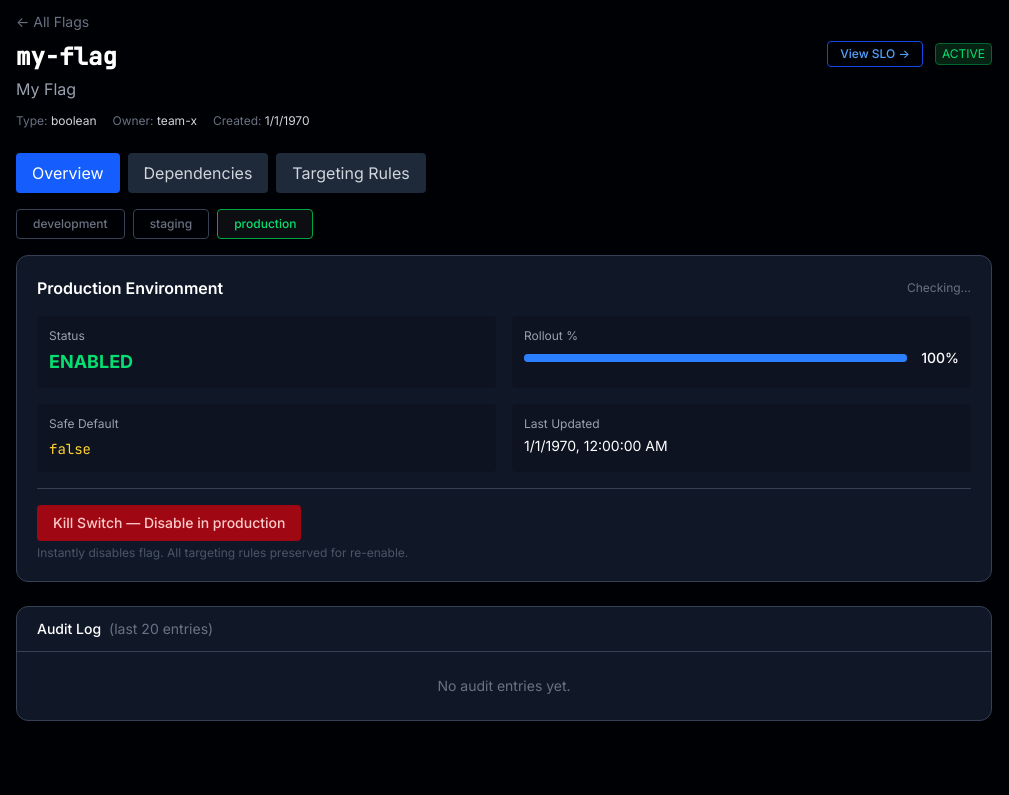
Test: FlagDetail kill switch blast-radius pre-check › cancelling the badge does not kill and restores the button
The image size is (1009, 795).
Click the button "Kill Switch — Disable in production" at (169, 523), box [37,505,301,541]
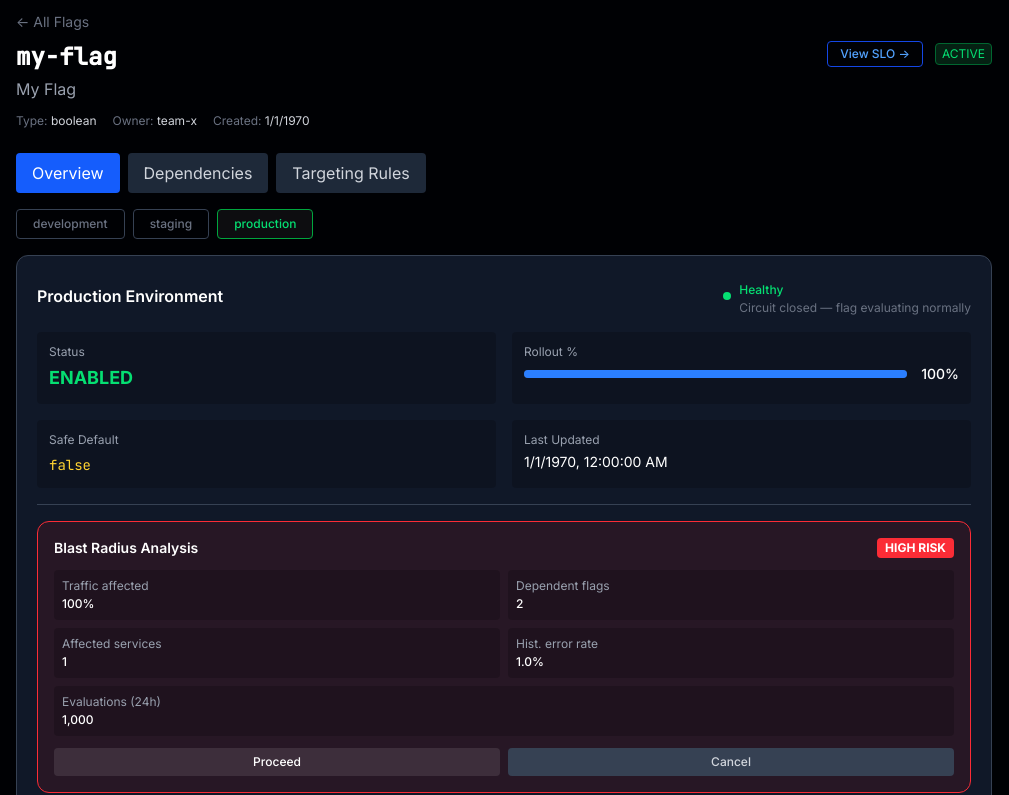
Expected: the text "Blast Radius Analysis" is shown, [54,538,198,558]
Click the button "Cancel" at (731, 762), box [508,748,954,776]
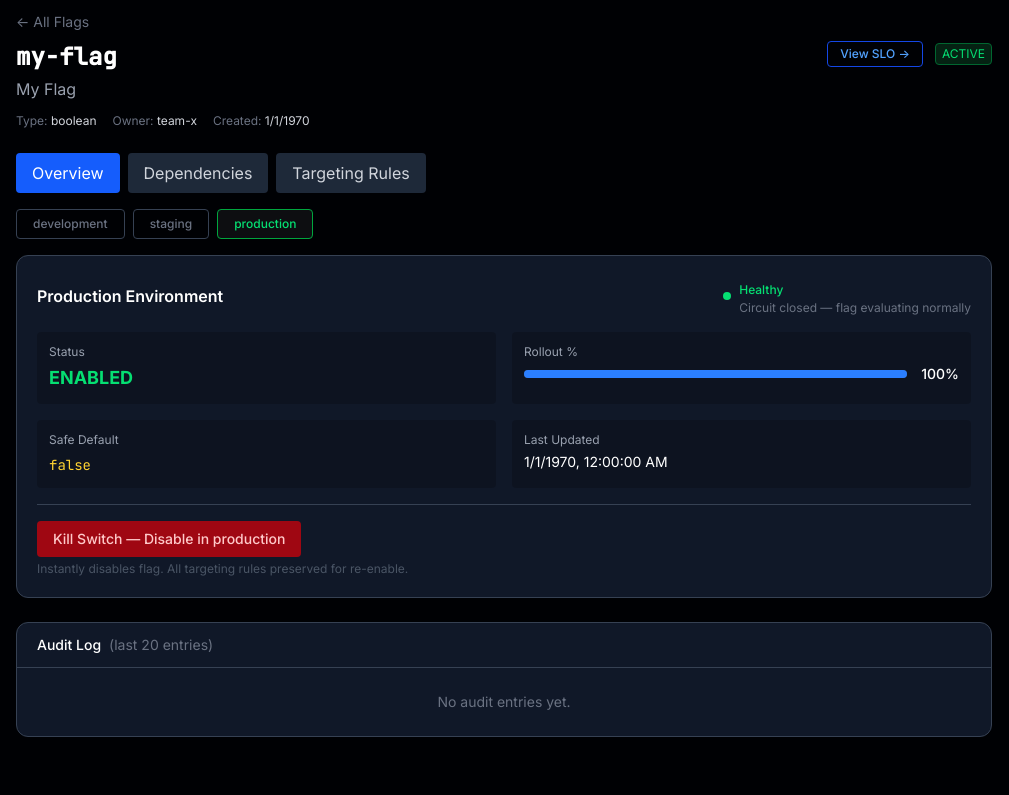
Expected: the button "Kill Switch — Disable in production" is shown, [37,521,301,557]
